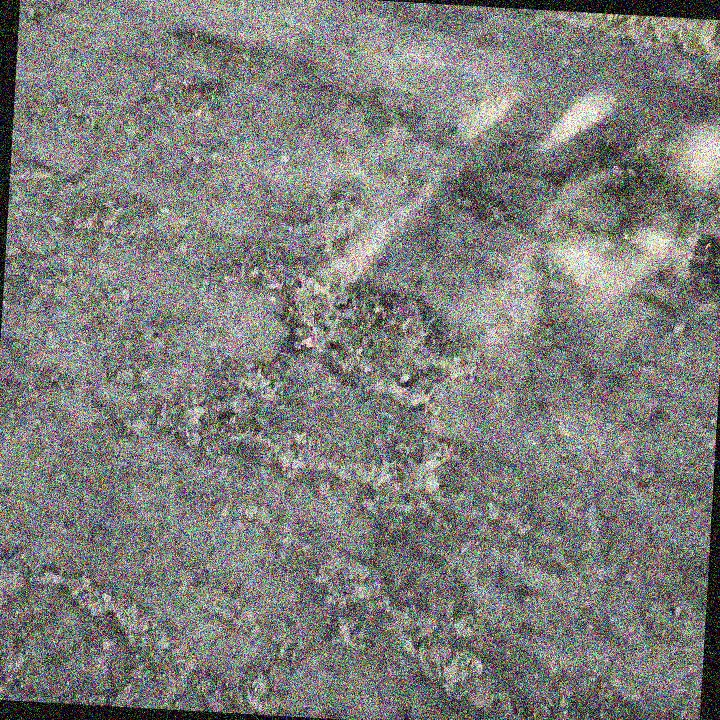pothole: (265, 263, 487, 415)
